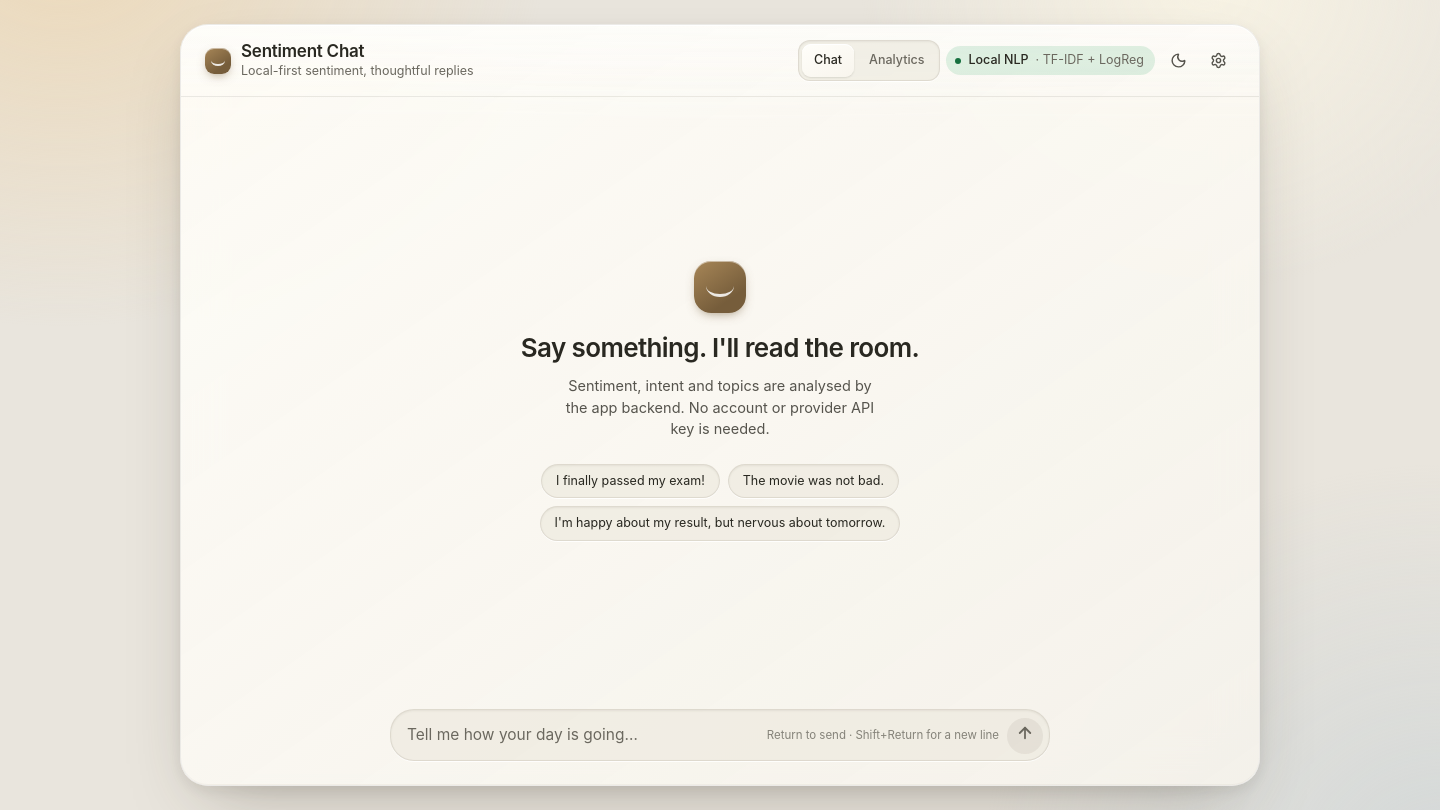
Scenario: an explicitly selected unconfigured provider is not reported as usable
Click the button named "Open settings": coordinates (1218, 61) [1201, 44, 1235, 78]
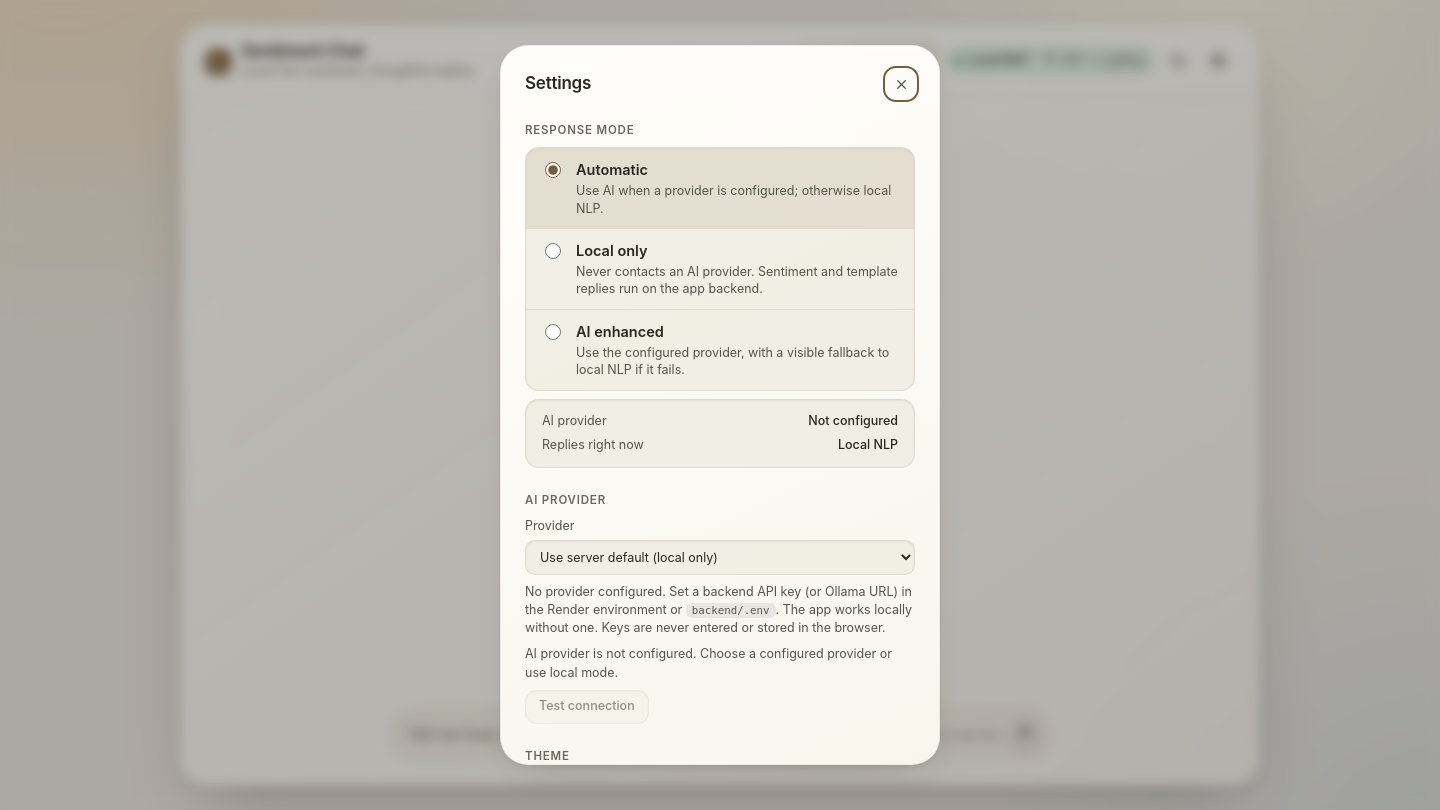
Select "Groq · model · not configured" in the dropdown labelled "Provider": coordinates (720, 558) [525, 540, 915, 575]
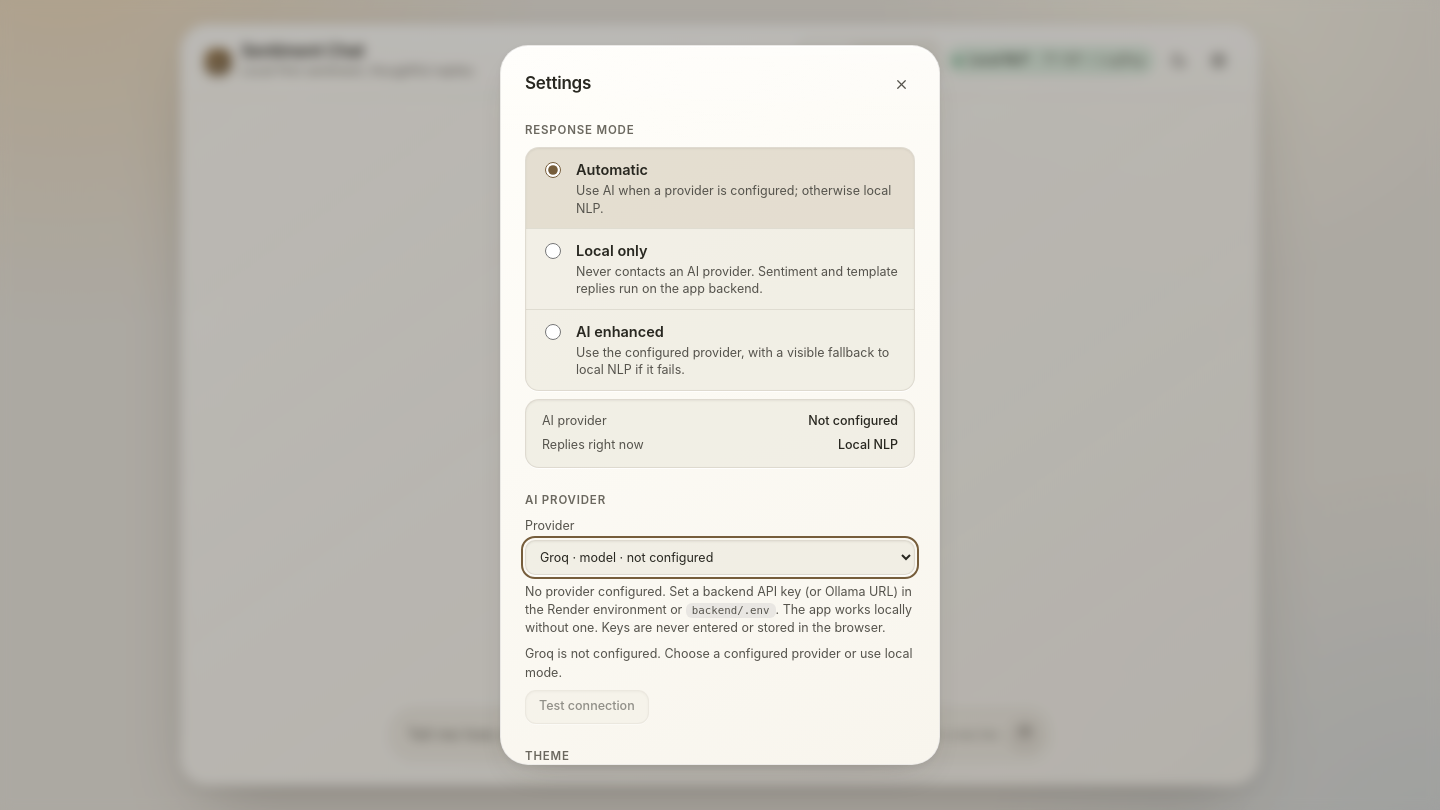
Result: the button "Test connection" is disabled at [525, 690, 649, 724]
Result: the text "Groq is not configured. Choose a configured provider or use local mode." is shown at [525, 645, 915, 682]
